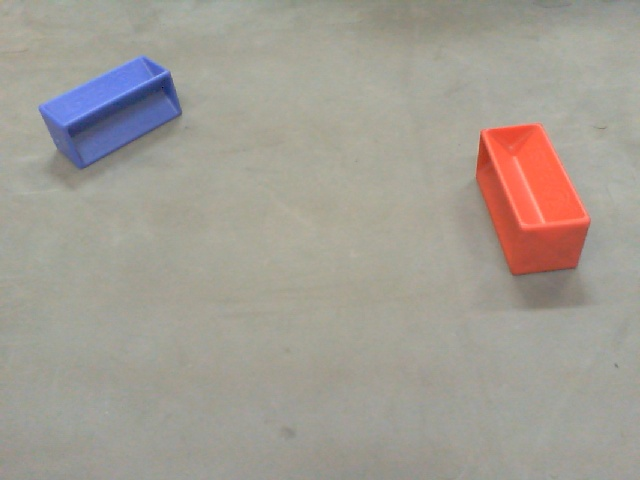BlueSample: (35, 51, 182, 174)
RedSample: (475, 119, 592, 283)
